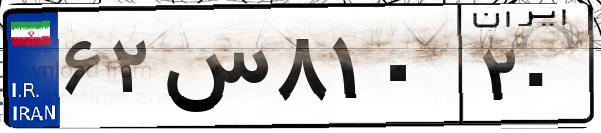0: (385, 28, 445, 110), (525, 38, 570, 115)
1: (330, 28, 385, 110)
2: (475, 38, 525, 113), (110, 28, 158, 98)
6: (57, 26, 110, 100)
8: (270, 28, 330, 110)
س: (158, 20, 270, 120)
